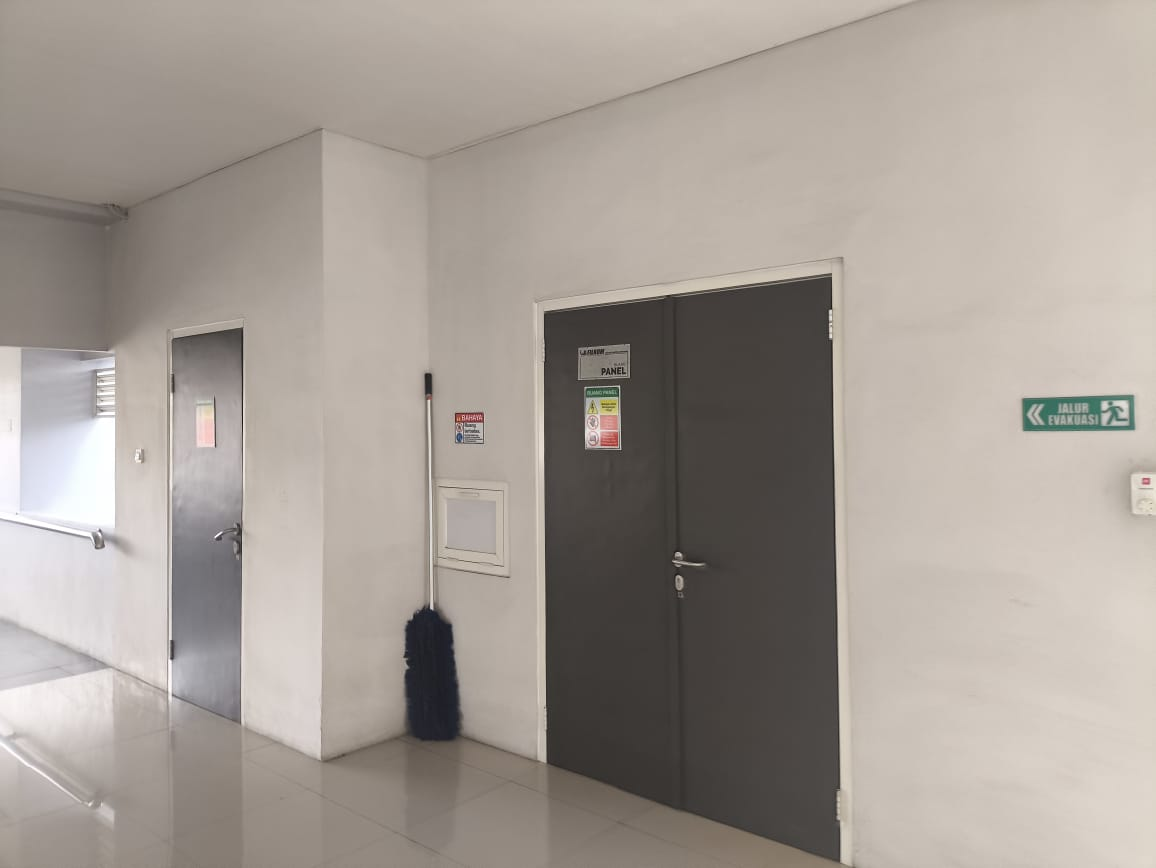ruang panel: (574, 340, 632, 386)
